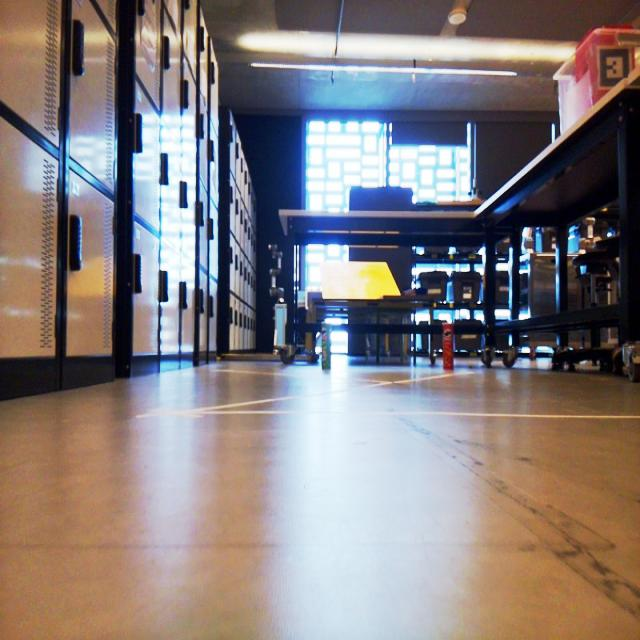greenpringles: (319, 321, 333, 373)
redpringles: (441, 320, 456, 374)
